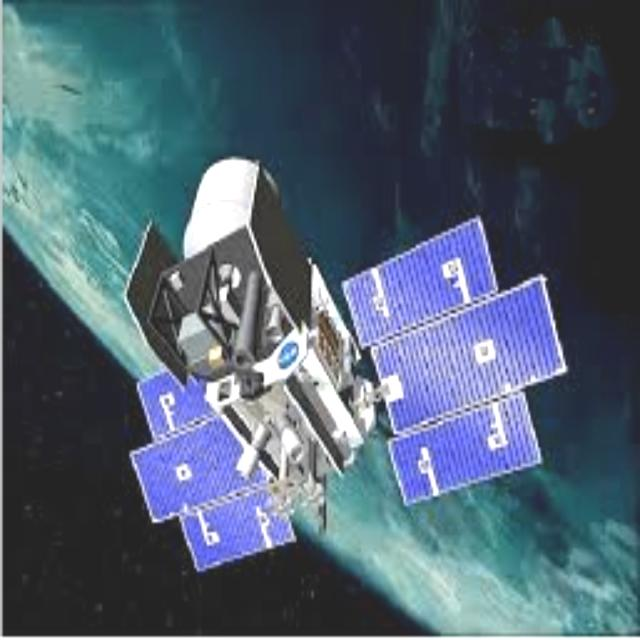medium_debris: (120, 128, 568, 589)
